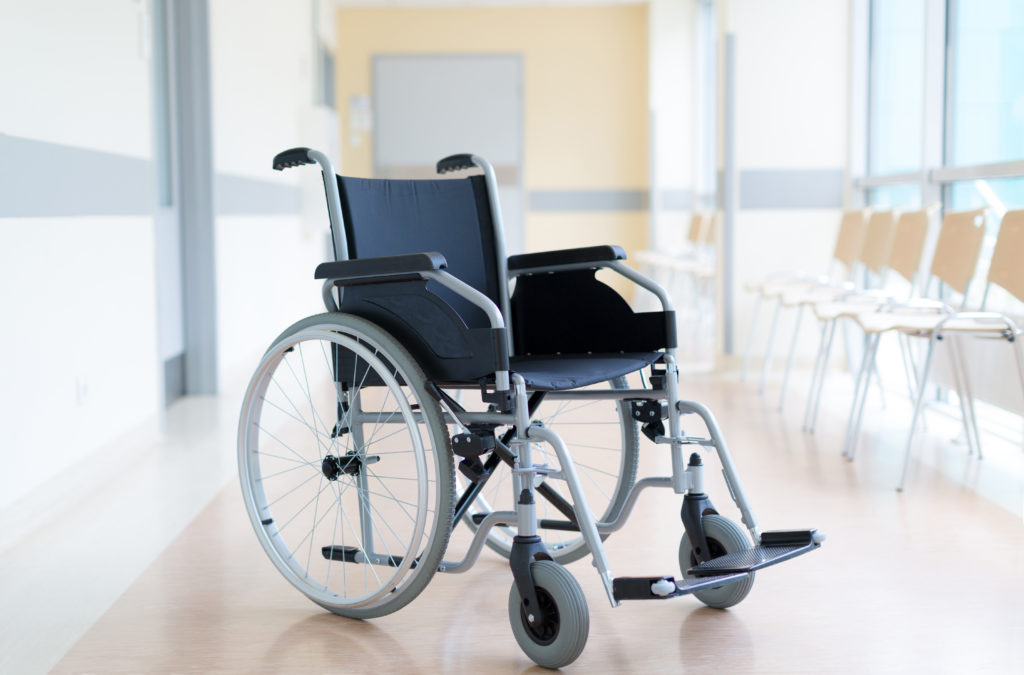chair: (837, 216, 983, 457), (894, 211, 1018, 490), (809, 214, 935, 456), (778, 219, 874, 450), (757, 213, 840, 419), (650, 210, 701, 348), (667, 211, 718, 349)
wheel_chair: (235, 145, 822, 667)
